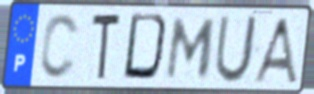A: (249, 15, 300, 85)
C: (37, 12, 82, 83)
D: (120, 11, 174, 85)
M: (163, 16, 219, 82)
T: (90, 11, 123, 85)
U: (212, 14, 260, 85)
